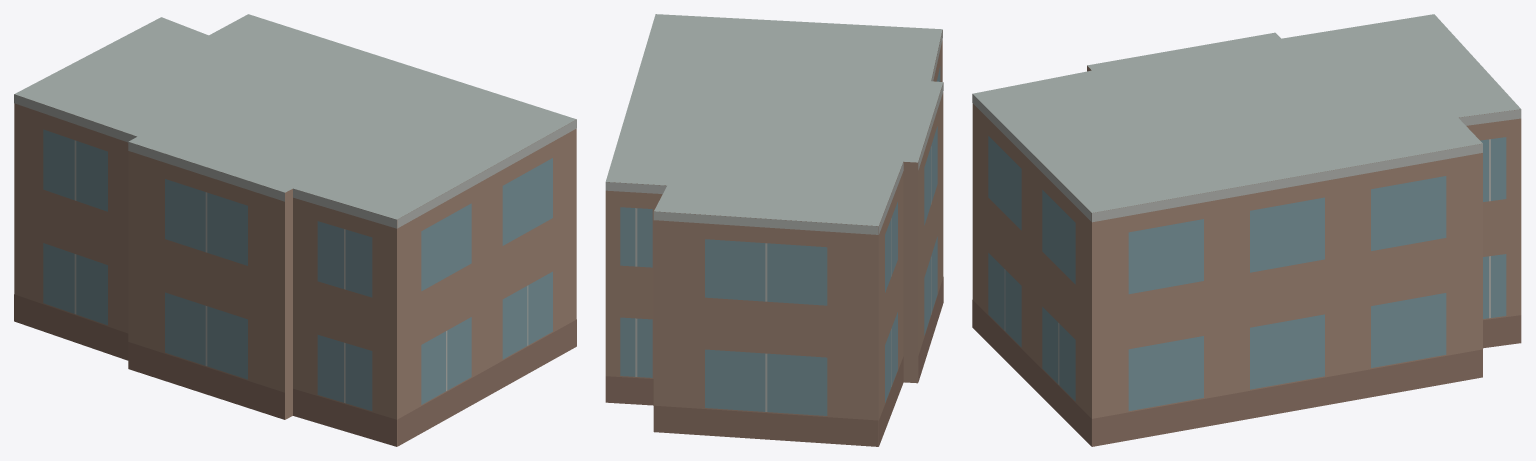
Rendered from survey-upis-32732455.glb.
3 views of the same model, side by side, from view 1: azimuth 30°, elevation 25°; view 2: azimuth 150°, elevation 25°; view 3: azimuth 270°, elevation 25° (orthographic). The views are drawn at different scales.
Visible parts, largest first — view 1: survey-upis-32732455.tmp; view 2: survey-upis-32732455.tmp; view 3: survey-upis-32732455.tmp.
Part boxes in pixels (bbox=[...]): survey-upis-32732455.tmp: bbox=[14, 14, 576, 446]; survey-upis-32732455.tmp: bbox=[605, 14, 943, 446]; survey-upis-32732455.tmp: bbox=[972, 14, 1521, 446].
Size of the model in its own units: 11.14 by 6.1 by 12.98.
